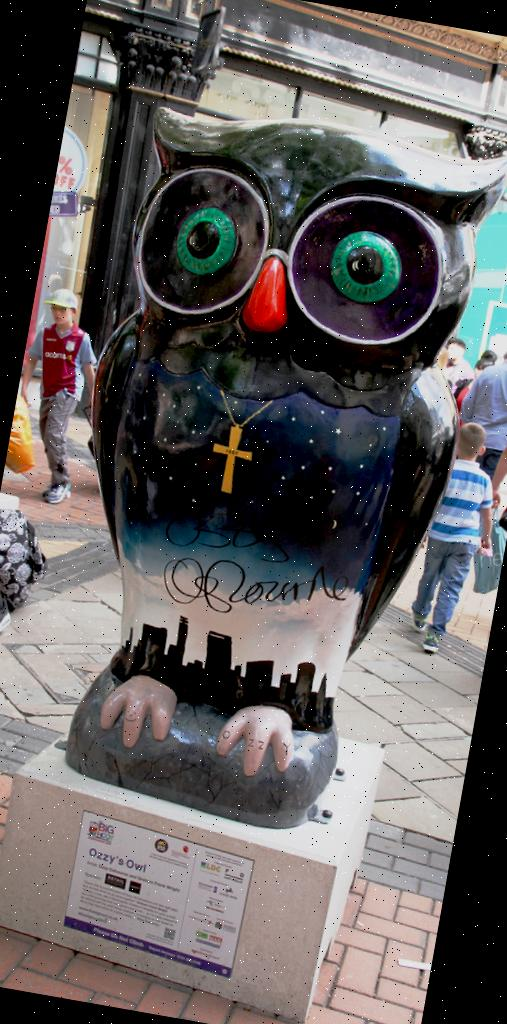Owl: (22, 82, 507, 820)
